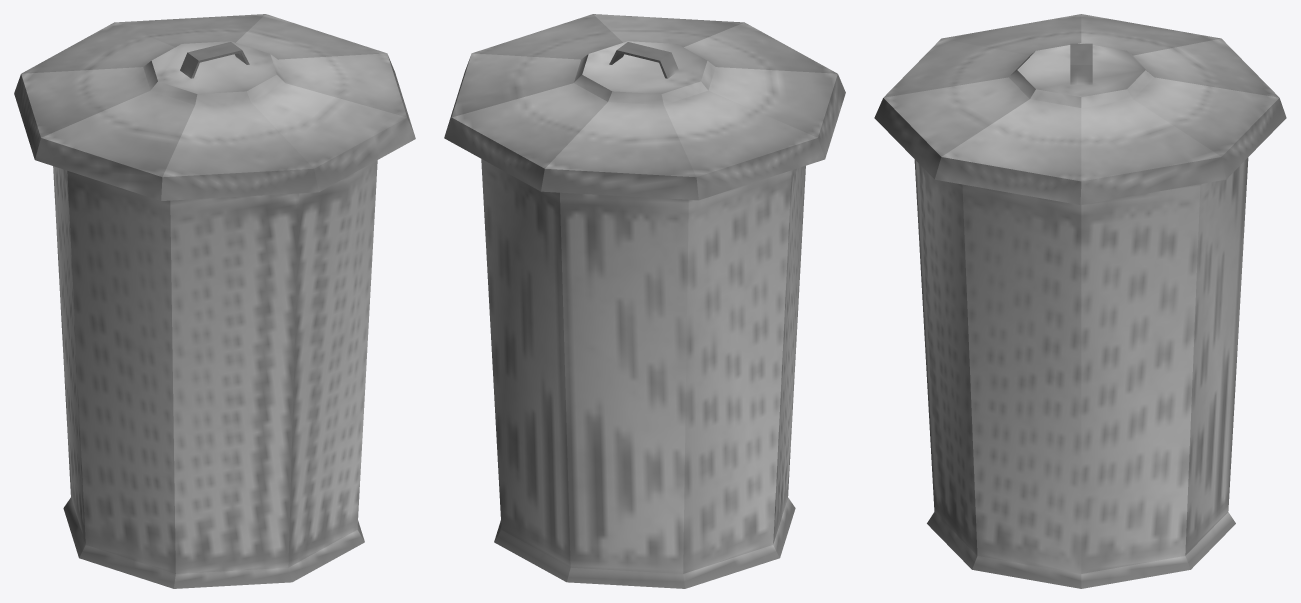
Rendered from musorka.fbx.
The picture shows the model from 3 angles, left to right: view 1: azimuth 30°, elevation 25°; view 2: azimuth 150°, elevation 25°; view 3: azimuth 270°, elevation 25°; orthographic projection.
Visible parts, largest first — view 1: metal street props low poly.007; view 2: metal street props low poly.007; view 3: metal street props low poly.007.
Boxes of the visible parts, x1=… form: metal street props low poly.007: x1=14, y1=14, x2=415, y2=588; metal street props low poly.007: x1=444, y1=14, x2=845, y2=588; metal street props low poly.007: x1=874, y1=14, x2=1286, y2=588.
Size of the model in its own units: 64.81 by 81.44 by 64.81.
